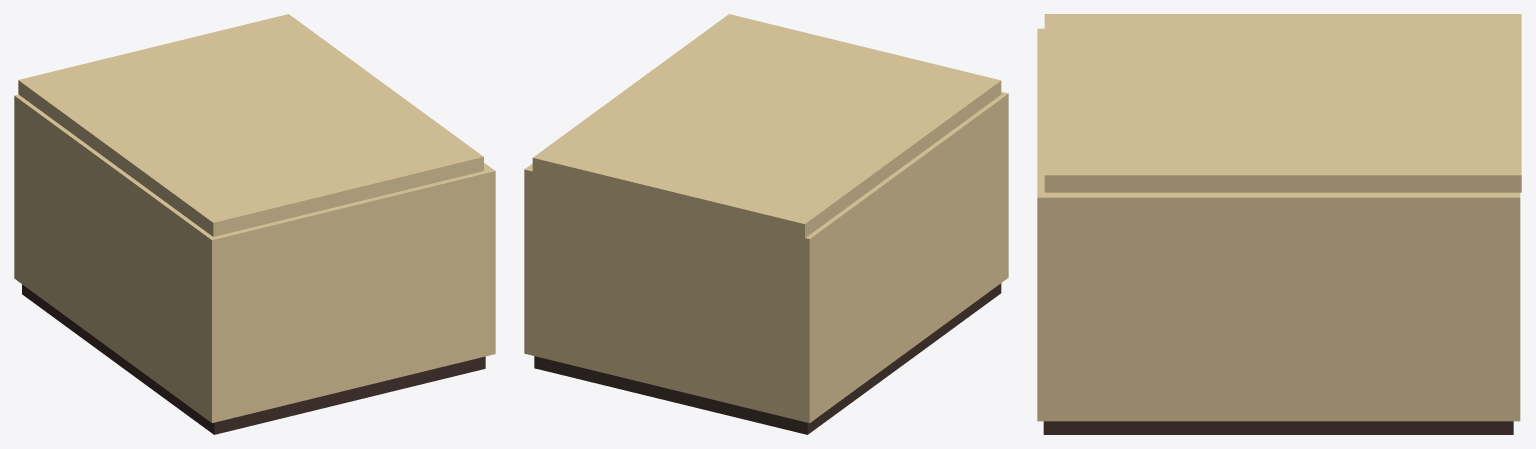
Rendered from FloorPlan29_tmp.fbx.
The picture shows the model from 3 angles, left to right: view 1: azimuth 30°, elevation 25°; view 2: azimuth 150°, elevation 25°; view 3: azimuth 270°, elevation 25°; orthographic projection. The views are drawn at different scales.
Parts seen in each view (by area): view 1: Baseboard.004; view 2: Baseboard.004; view 3: Baseboard.004.
Part boxes in pixels (x1,y1,x2,y2): Baseboard.004: (14, 14, 495, 434); Baseboard.004: (524, 14, 1008, 434); Baseboard.004: (1037, 14, 1521, 434).
Bounding box in the file's own units: 428 × 305 × 517.
